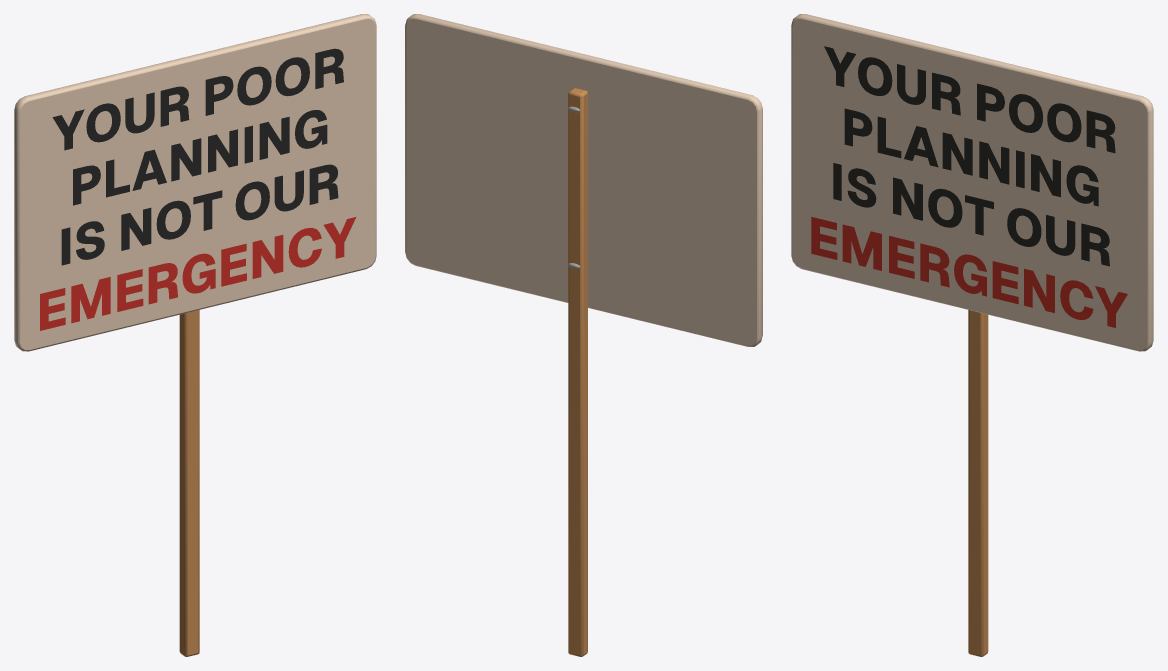
Rendered from picket-sign.glb.
3 views of the same model, side by side, from view 1: azimuth 30°, elevation 25°; view 2: azimuth 150°, elevation 25°; view 3: azimuth 330°, elevation 25° (orthographic).
Visible parts, largest first — view 1: picket-sign; view 2: picket-sign; view 3: picket-sign.
Part boxes in pixels (left/top/right/bottom): picket-sign: left=14, top=14, right=376, bottom=656; picket-sign: left=405, top=14, right=762, bottom=656; picket-sign: left=791, top=14, right=1153, bottom=656.
Size of the model in its own units: 0.9499 by 1.52 by 0.0631.
